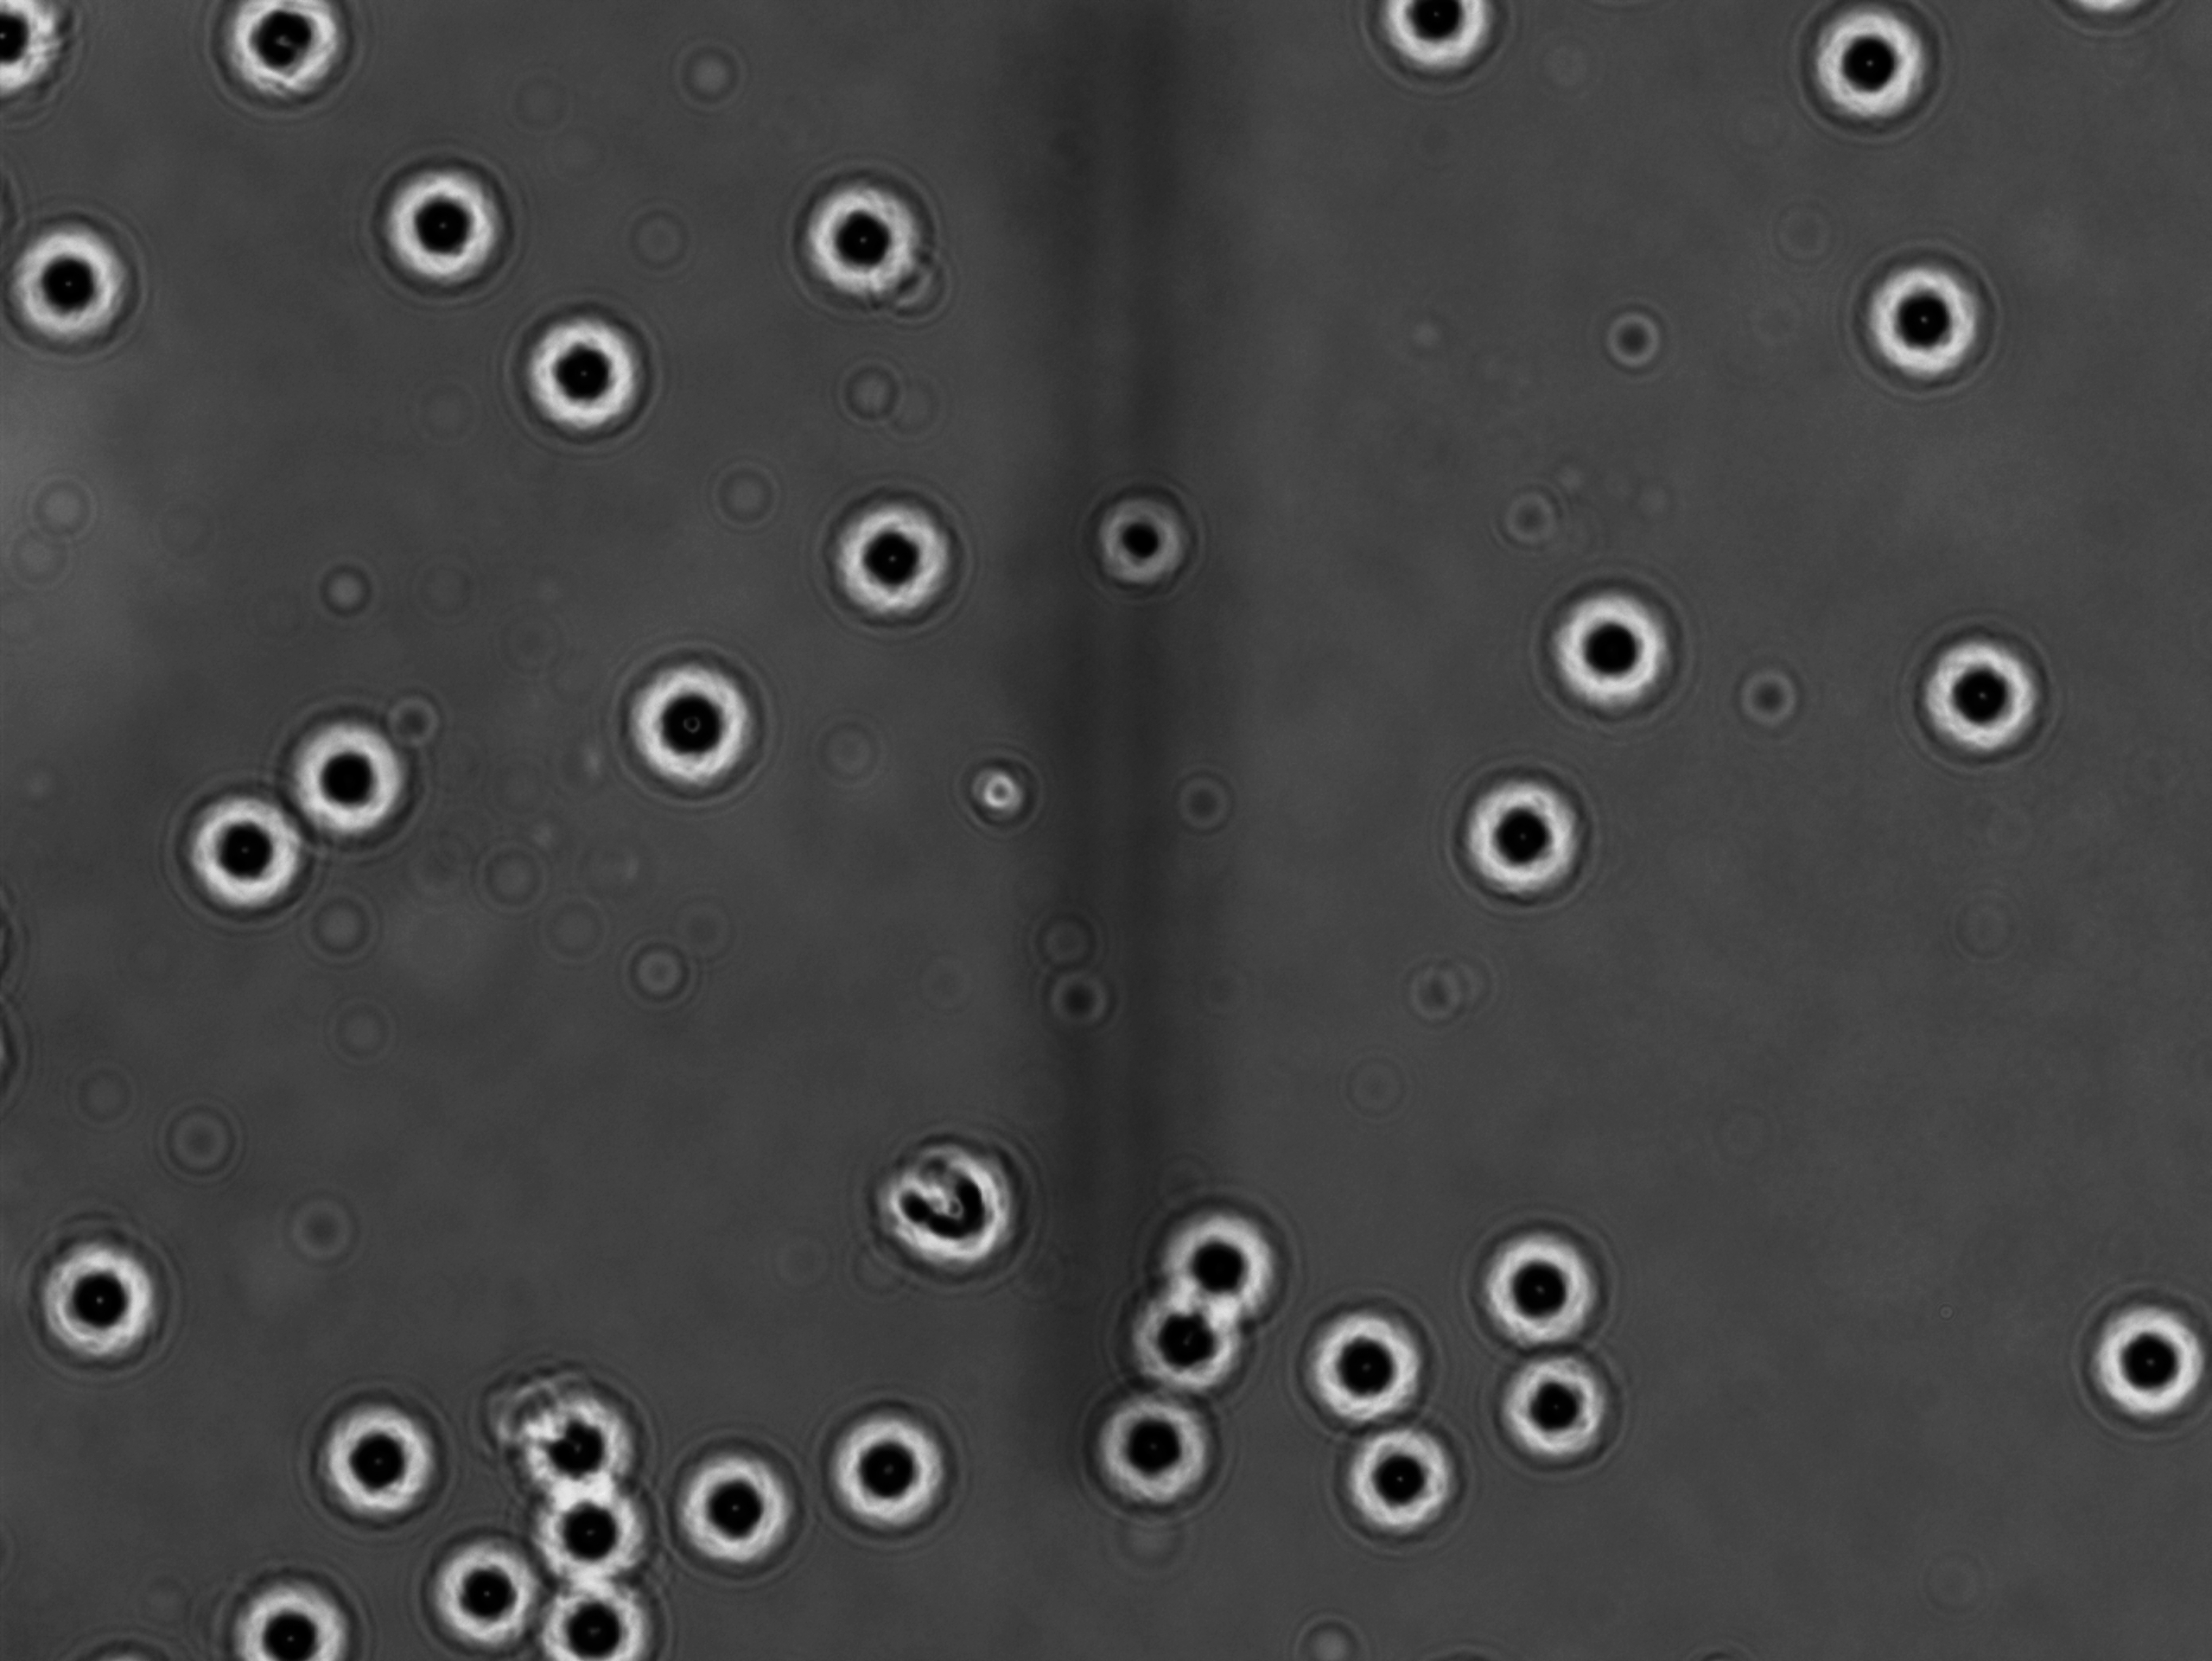depth:-20: (598, 646, 787, 817), (808, 478, 973, 647), (21, 1220, 192, 1384), (363, 148, 537, 304), (288, 1387, 455, 1548), (494, 1350, 663, 1509), (802, 1394, 966, 1556), (654, 1445, 823, 1600), (1905, 616, 2074, 771), (263, 701, 424, 860), (1788, 3, 1957, 154), (504, 286, 675, 434), (159, 776, 323, 930), (1455, 1220, 1621, 1371), (1441, 761, 1607, 913), (787, 157, 942, 314), (1530, 578, 1687, 731), (1090, 1359, 1249, 1511), (1851, 244, 2006, 398), (1280, 1296, 1436, 1446), (2076, 1270, 2212, 1434), (1319, 1403, 1472, 1548), (1143, 1186, 1293, 1333), (1485, 1333, 1636, 1478), (1108, 1272, 1256, 1403), (426, 1525, 563, 1661), (218, 1553, 389, 1661), (529, 1478, 665, 1612), (502, 1563, 665, 1661)
